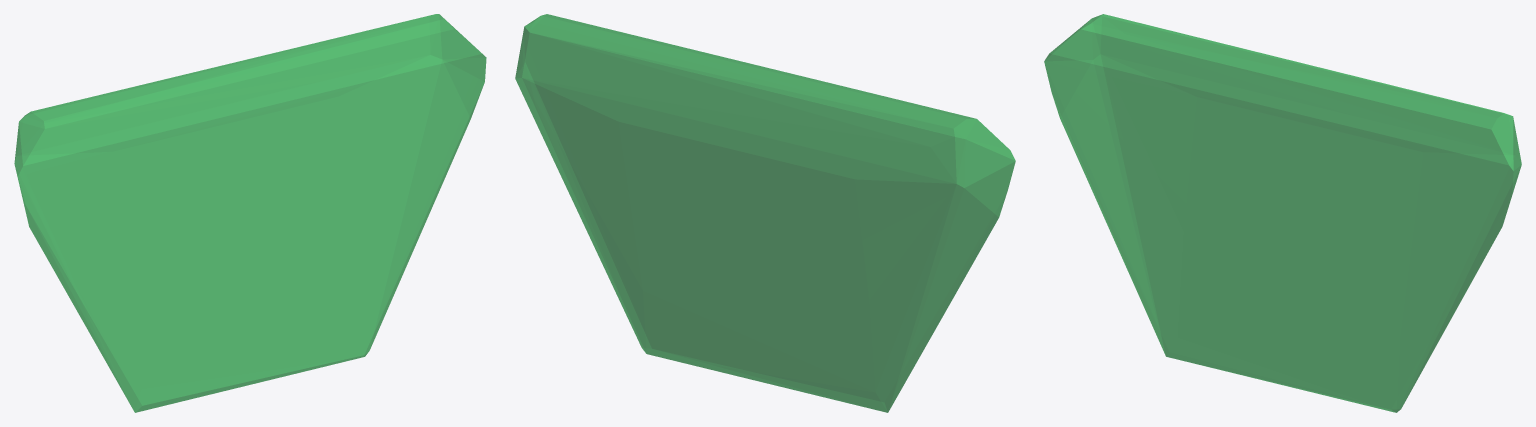
3 views of the same model, side by side, from view 1: azimuth 30°, elevation 25°; view 2: azimuth 150°, elevation 25°; view 3: azimuth 330°, elevation 25° (orthographic). The views are drawn at different scales.
Parts seen in each view (by area): view 1: Shape_IndexedFaceSet.001_Shape_IndexedFaceSet.11832; view 2: Shape_IndexedFaceSet.001_Shape_IndexedFaceSet.11832; view 3: Shape_IndexedFaceSet.001_Shape_IndexedFaceSet.11832.
Boxes of the visible parts, box(x1,y1,x2,y2) form: Shape_IndexedFaceSet.001_Shape_IndexedFaceSet.11832: box(14, 14, 486, 412); Shape_IndexedFaceSet.001_Shape_IndexedFaceSet.11832: box(515, 14, 1015, 412); Shape_IndexedFaceSet.001_Shape_IndexedFaceSet.11832: box(1044, 14, 1521, 412).
Size of the model in its own units: 1.08 by 0.6782 by 0.1154.
